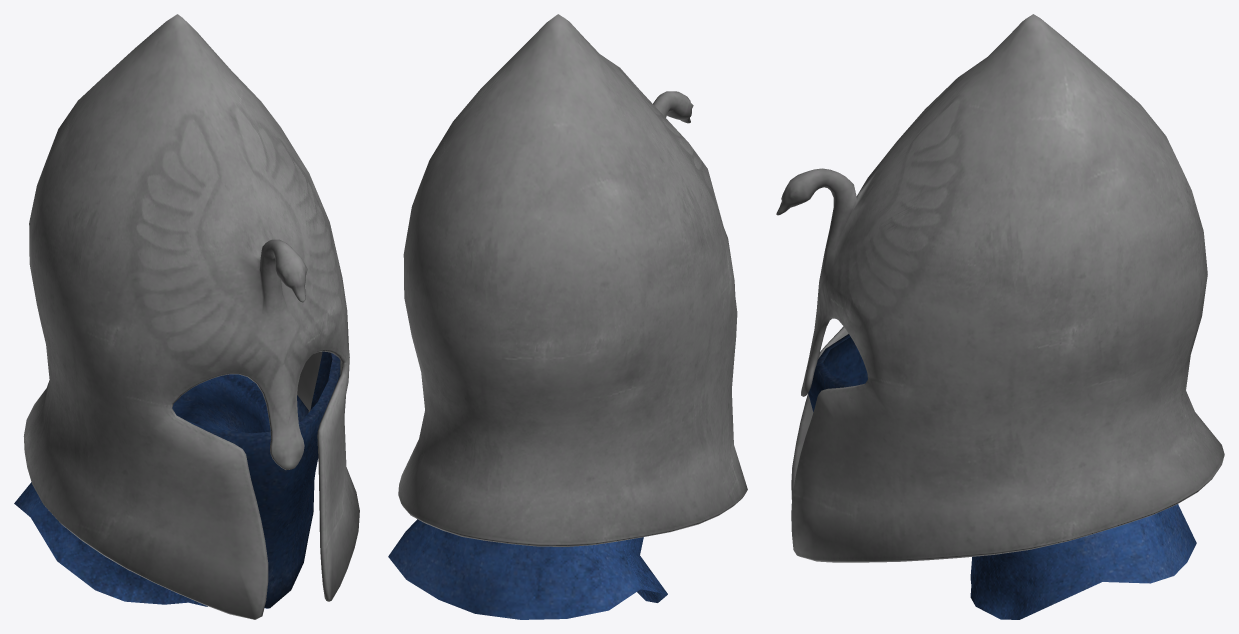
The model's file is dol_amroth_helmet_basic_mask.fbx.
The picture shows the model from 3 angles, left to right: view 1: azimuth 30°, elevation 25°; view 2: azimuth 150°, elevation 25°; view 3: azimuth 270°, elevation 25°; orthographic projection. The views are drawn at different scales.
Visible parts, largest first — view 1: dol_amroth_helmet_basic_mask; view 2: dol_amroth_helmet_basic_mask; view 3: dol_amroth_helmet_basic_mask.
Part boxes in pixels (<box>): dol_amroth_helmet_basic_mask: <box>14,14,359,619</box>; dol_amroth_helmet_basic_mask: <box>388,14,747,619</box>; dol_amroth_helmet_basic_mask: <box>776,14,1224,619</box>.
Bounding box in the file's own units: 0.2087 × 0.2887 × 0.4144.
Materials: 1 (1 with a texture image).
